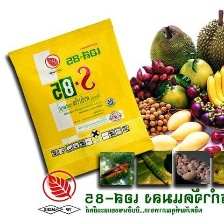insecticide: (2, 11, 159, 190)
